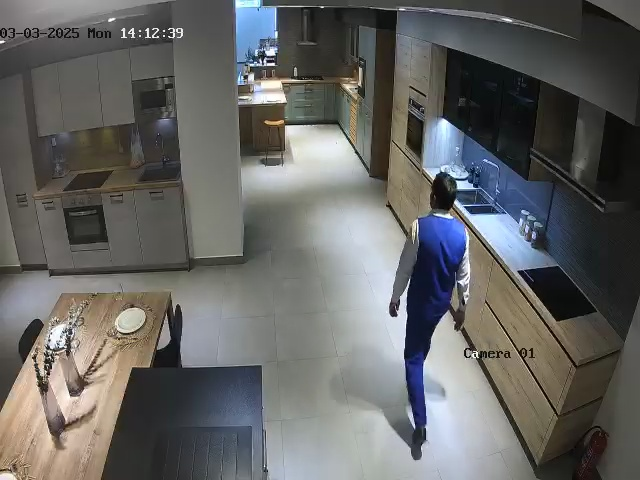employee: (388, 172, 471, 460)
